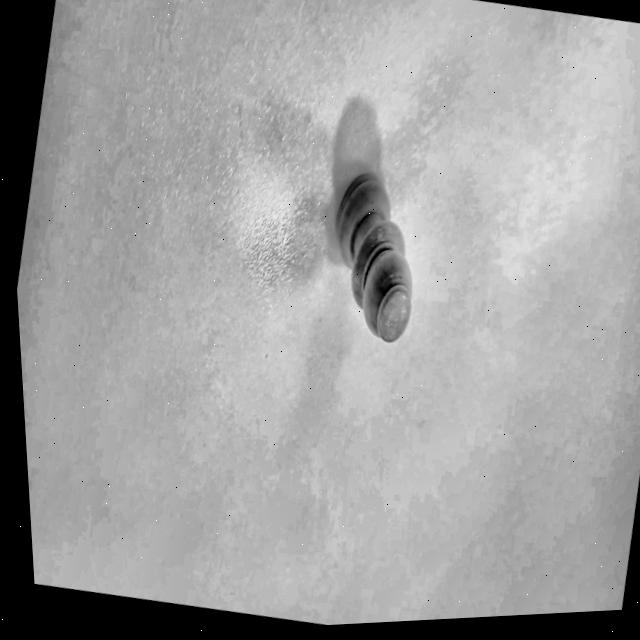white-bishop: (283, 117, 462, 378)
